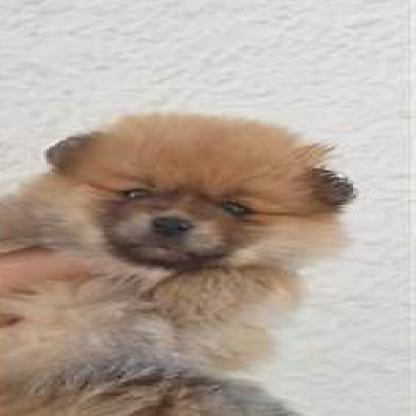dog: (0, 114, 364, 414)
